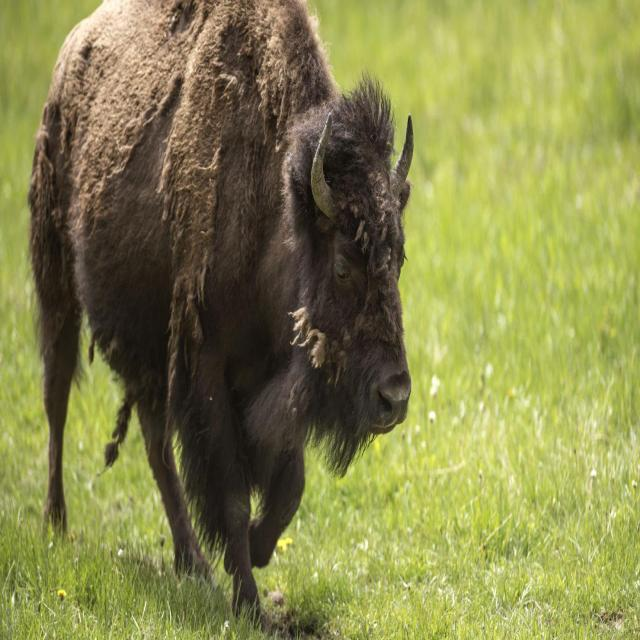Bison: (18, 0, 424, 634)
